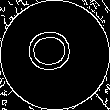O_E: (28, 32, 82, 78)
